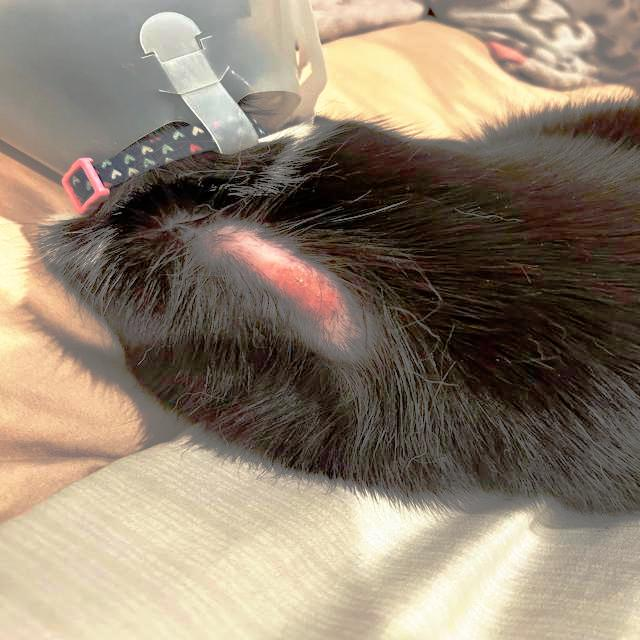hairloss: (196, 214, 354, 351)
